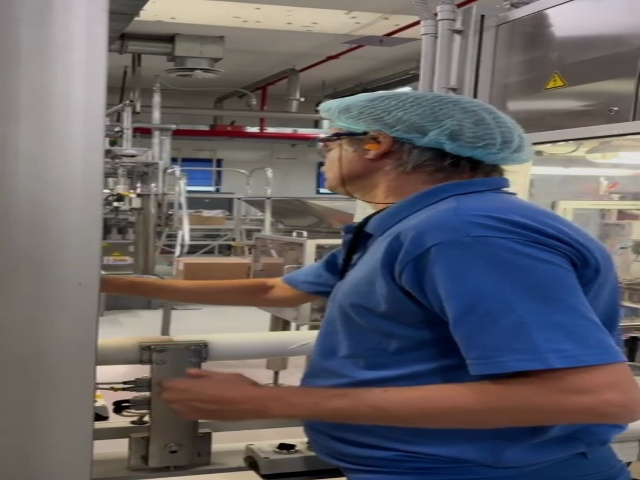Earplug: (360, 130, 393, 162)
Hairnet: (319, 92, 534, 162)
No_Helmet: (320, 90, 532, 161)
No_Vest: (298, 182, 617, 478)
Person: (318, 86, 619, 480)
Safety_Goggles: (316, 129, 370, 152)
